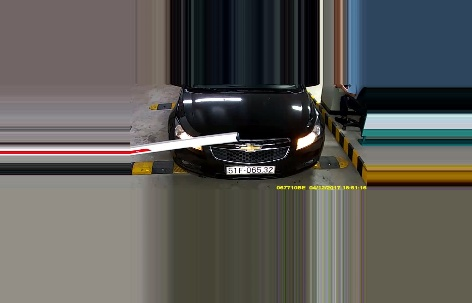plate: (226, 165, 276, 174)
